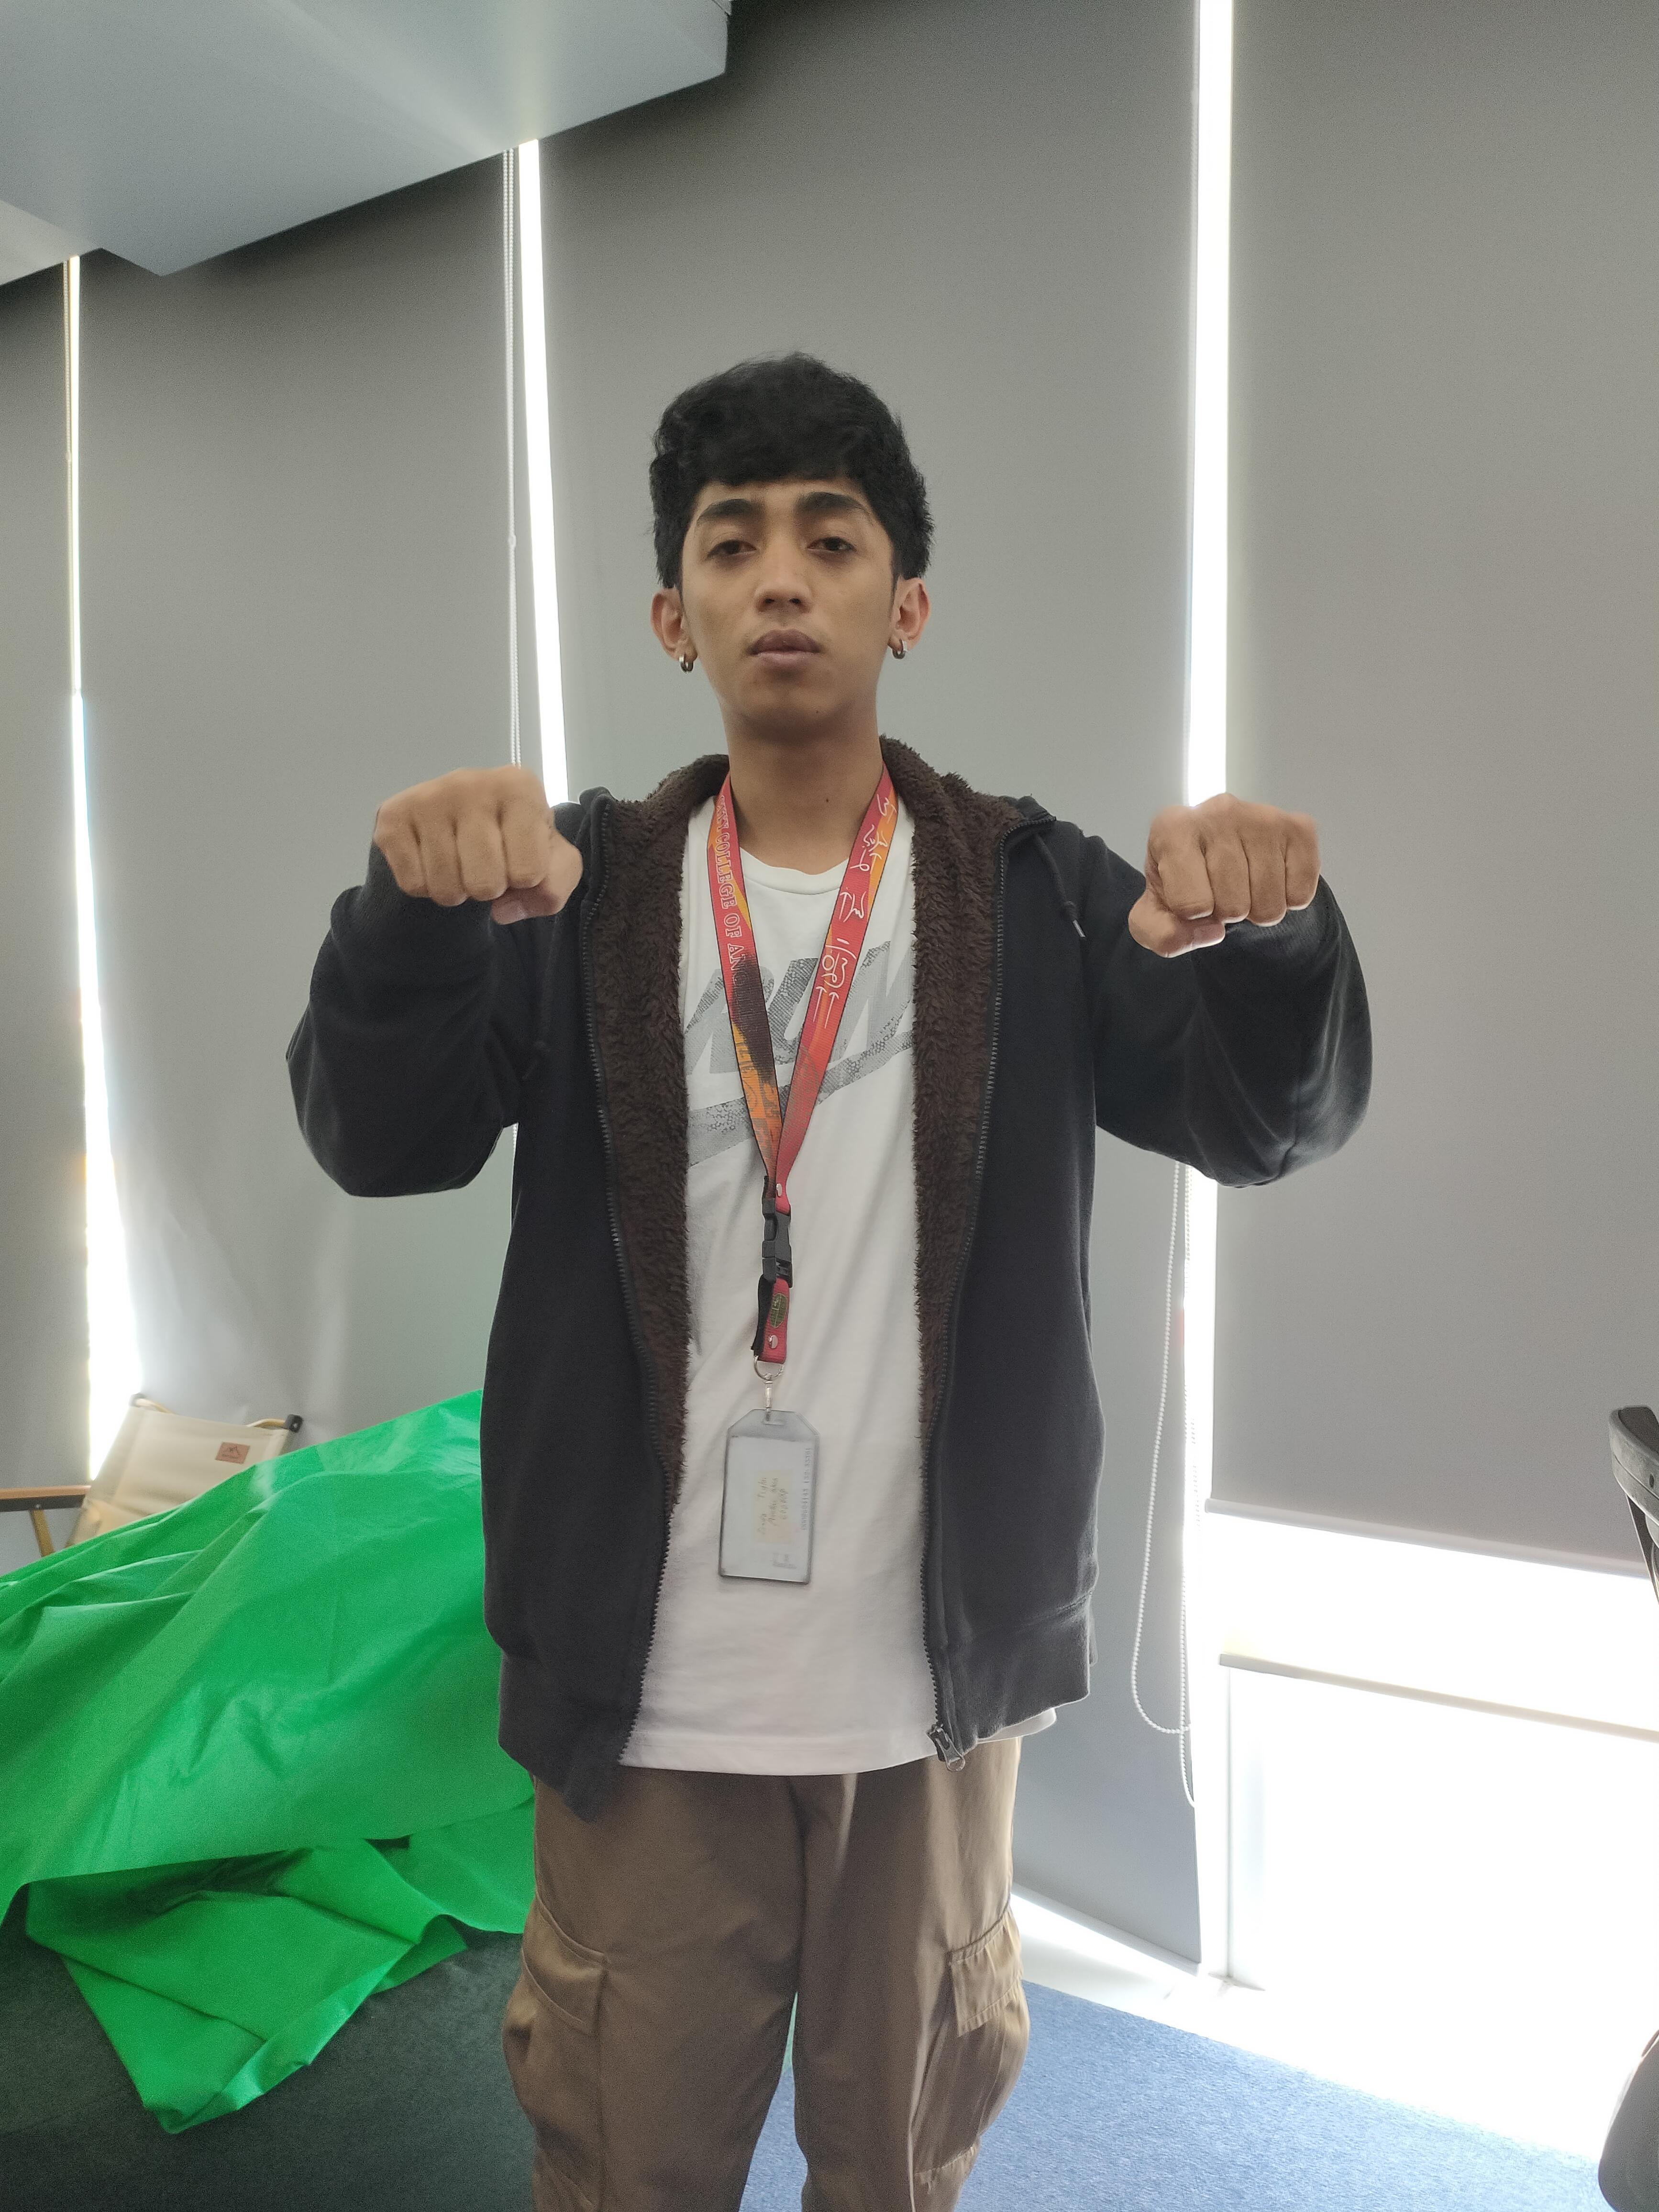Yes: (1105, 777, 1354, 954), (352, 756, 591, 914)
